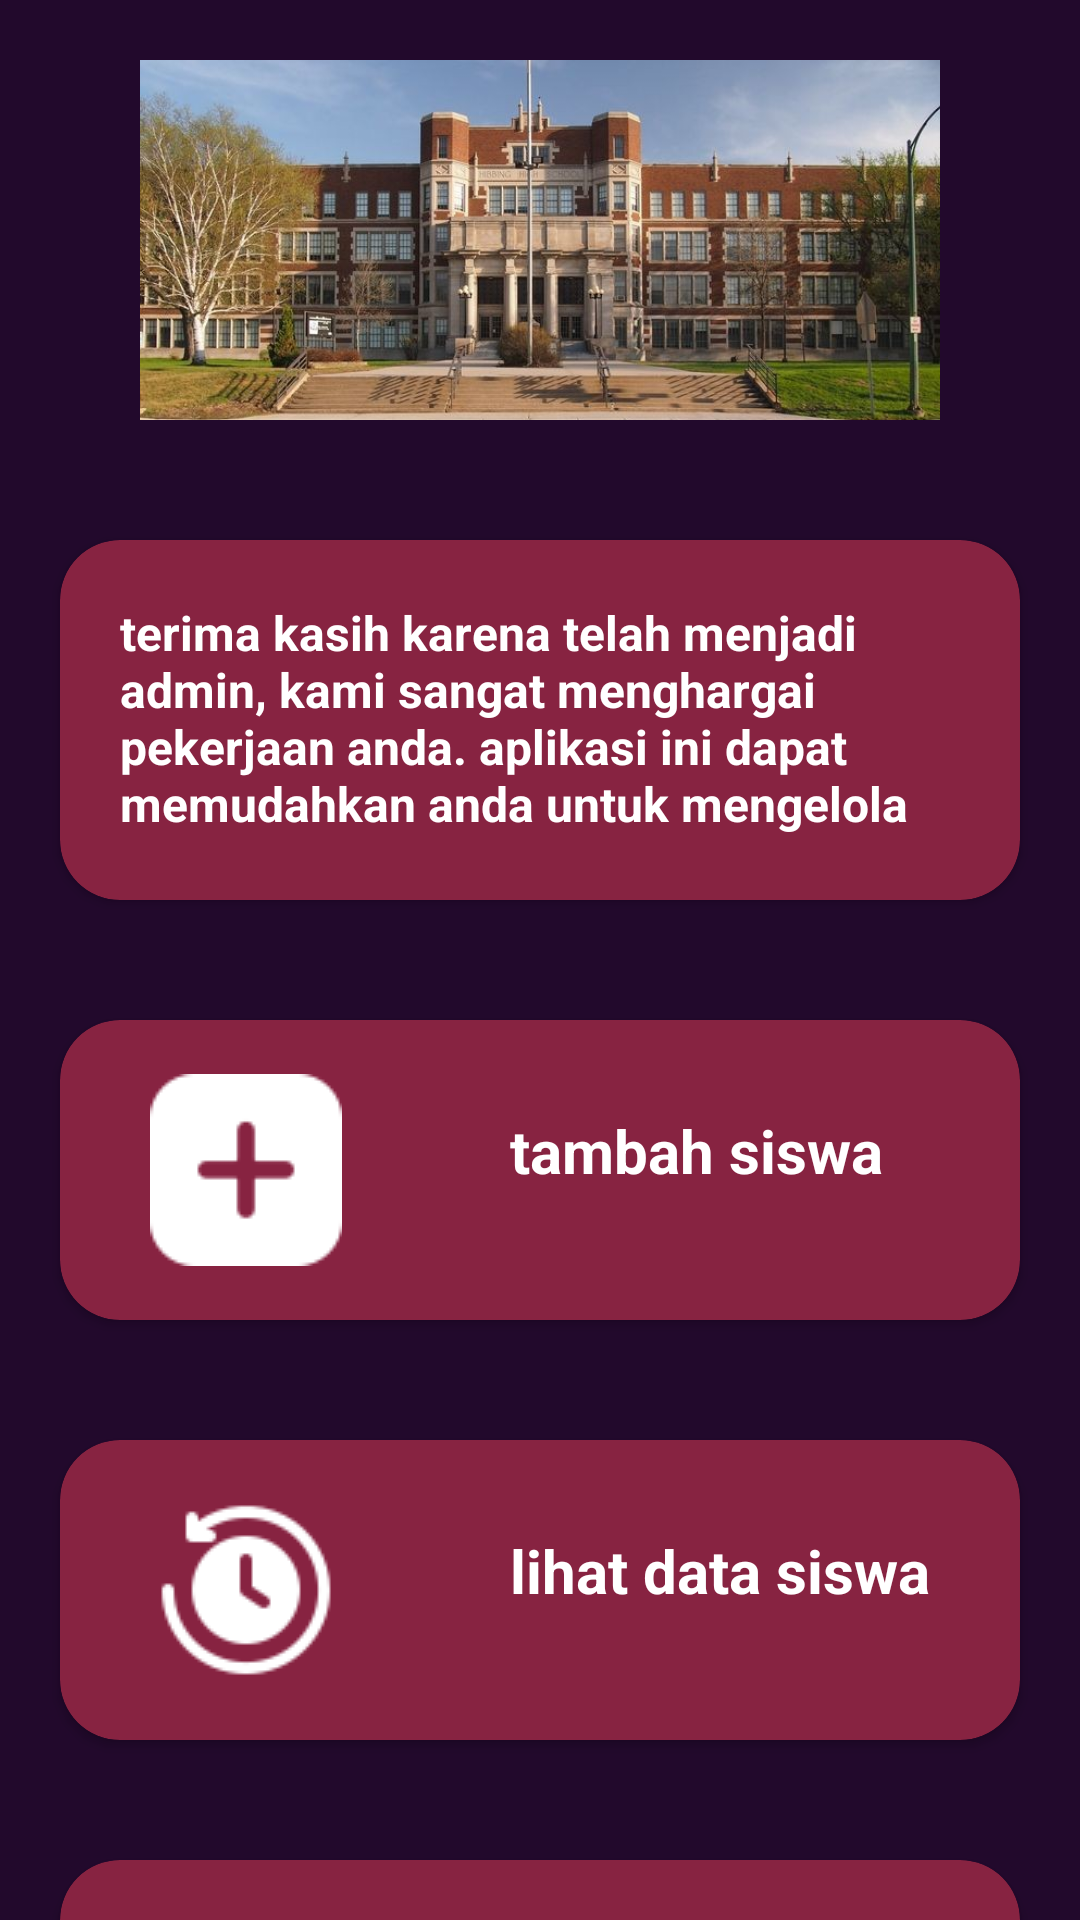

Named icons in this screenshot (1080×1920) and their bounding boxes, box=[x1, y1, x2, y2]:
tambah: box=[150, 1074, 342, 1266]
